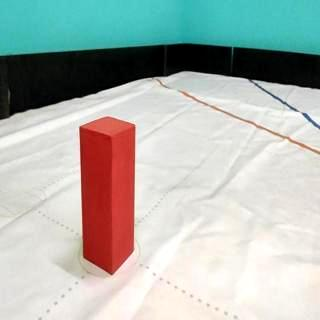redbox: (79, 116, 135, 275)
